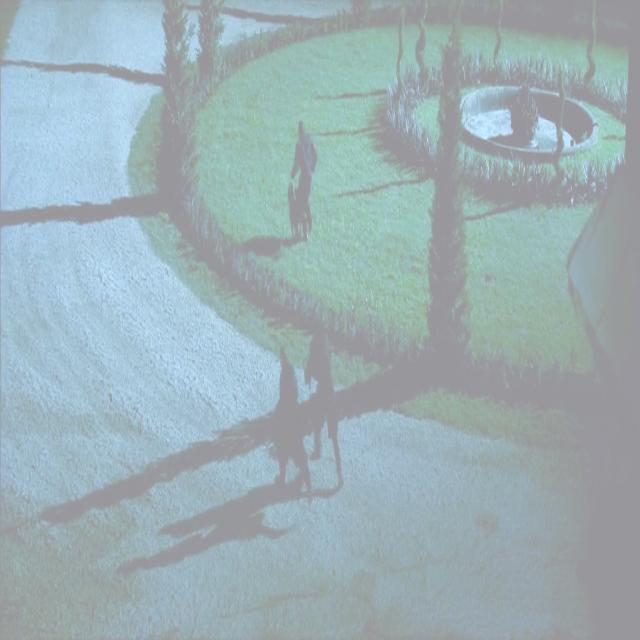Dog: (273, 168, 318, 258)
